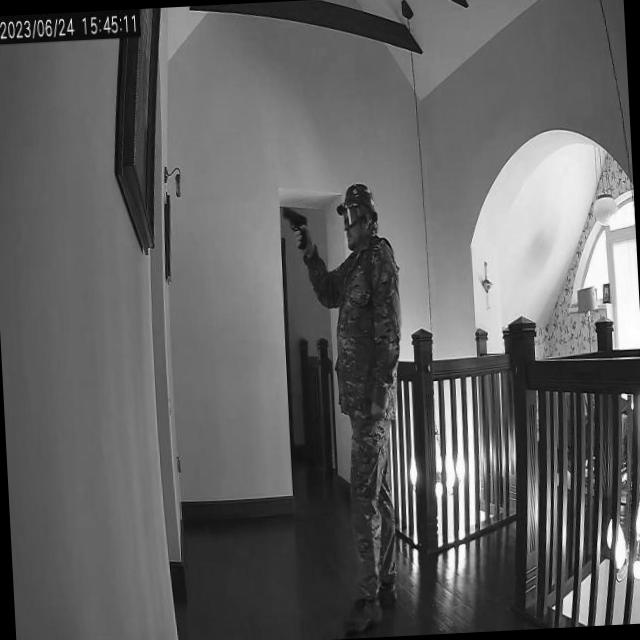gun: (280, 201, 314, 256)
person with a gun: (277, 179, 404, 634)
